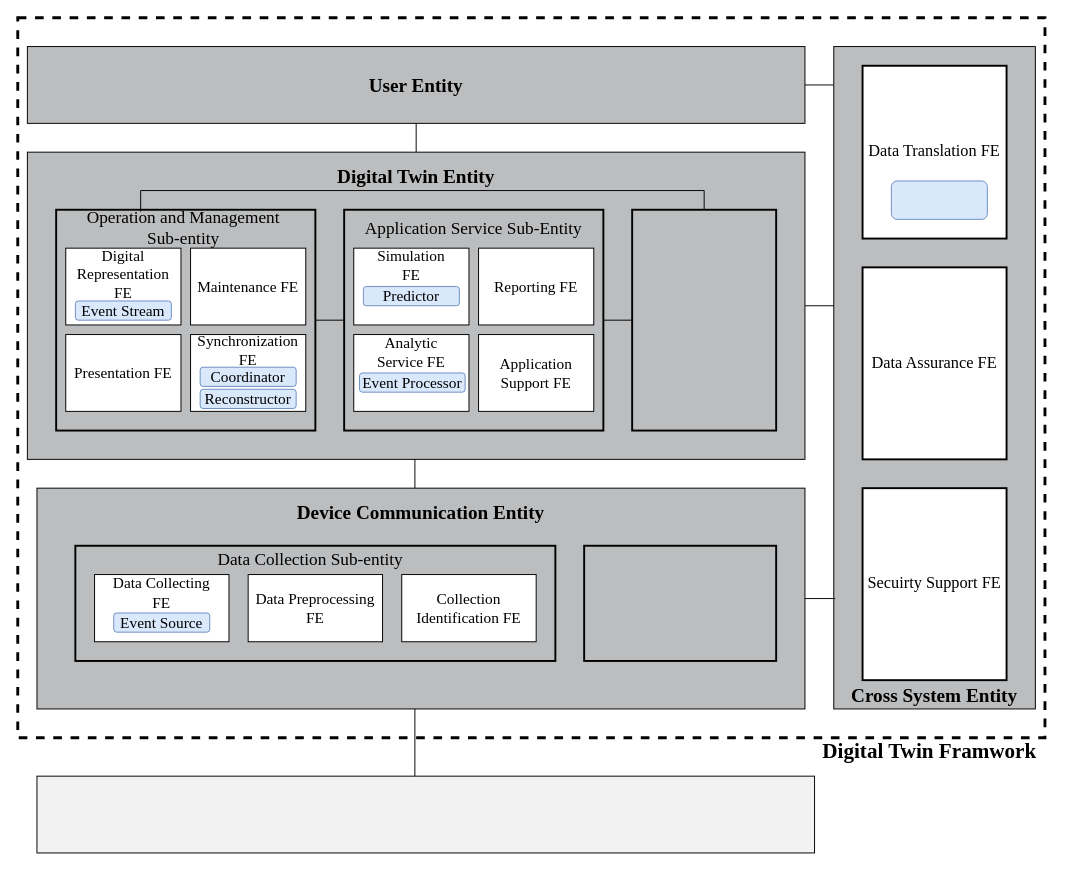
The diagram is 1071 pixels wide and 870 high, and some of its shapes have lost their labels. The box of each missing label's shape, as (x1, y1, x2, y2) in pixels:
Device Control Sub-Entity: (583, 544, 777, 661)
Event Serialization: (890, 180, 987, 219)
Observable Manufacturing Element (OMEs): (36, 775, 815, 853)
Resouce Access and Interchange Sub-Entity: (631, 208, 777, 431)
